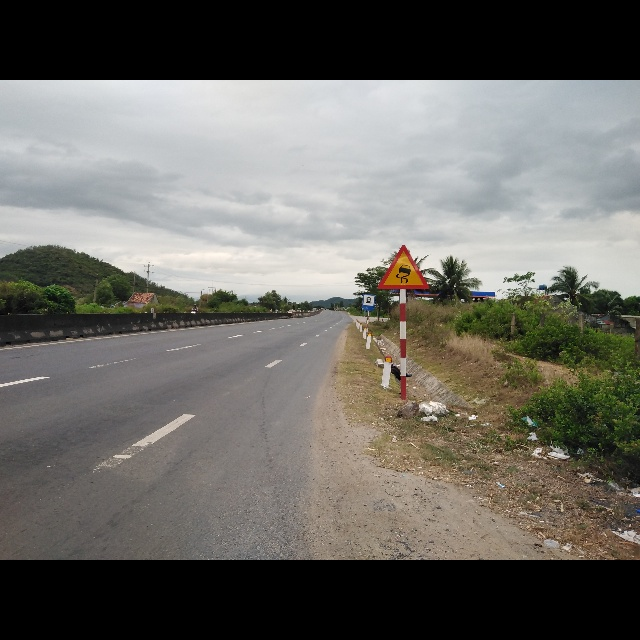Đường trơn trượt: (378, 242, 430, 291)
